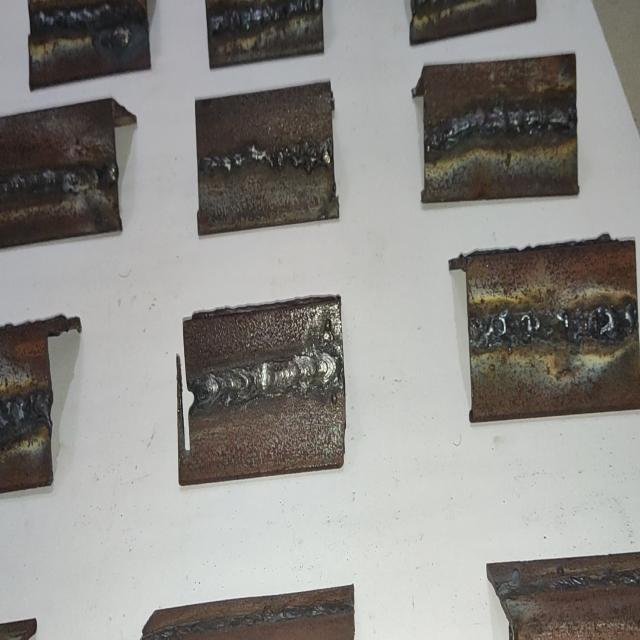Bad Weld: (474, 302, 635, 350), (427, 101, 571, 151), (199, 138, 331, 175), (1, 160, 112, 201)
Defect: (429, 99, 575, 149), (472, 309, 634, 341), (204, 144, 330, 175), (5, 165, 111, 199)
Good Weld: (200, 349, 338, 400), (208, 0, 320, 35), (33, 0, 144, 33), (0, 390, 46, 425)
